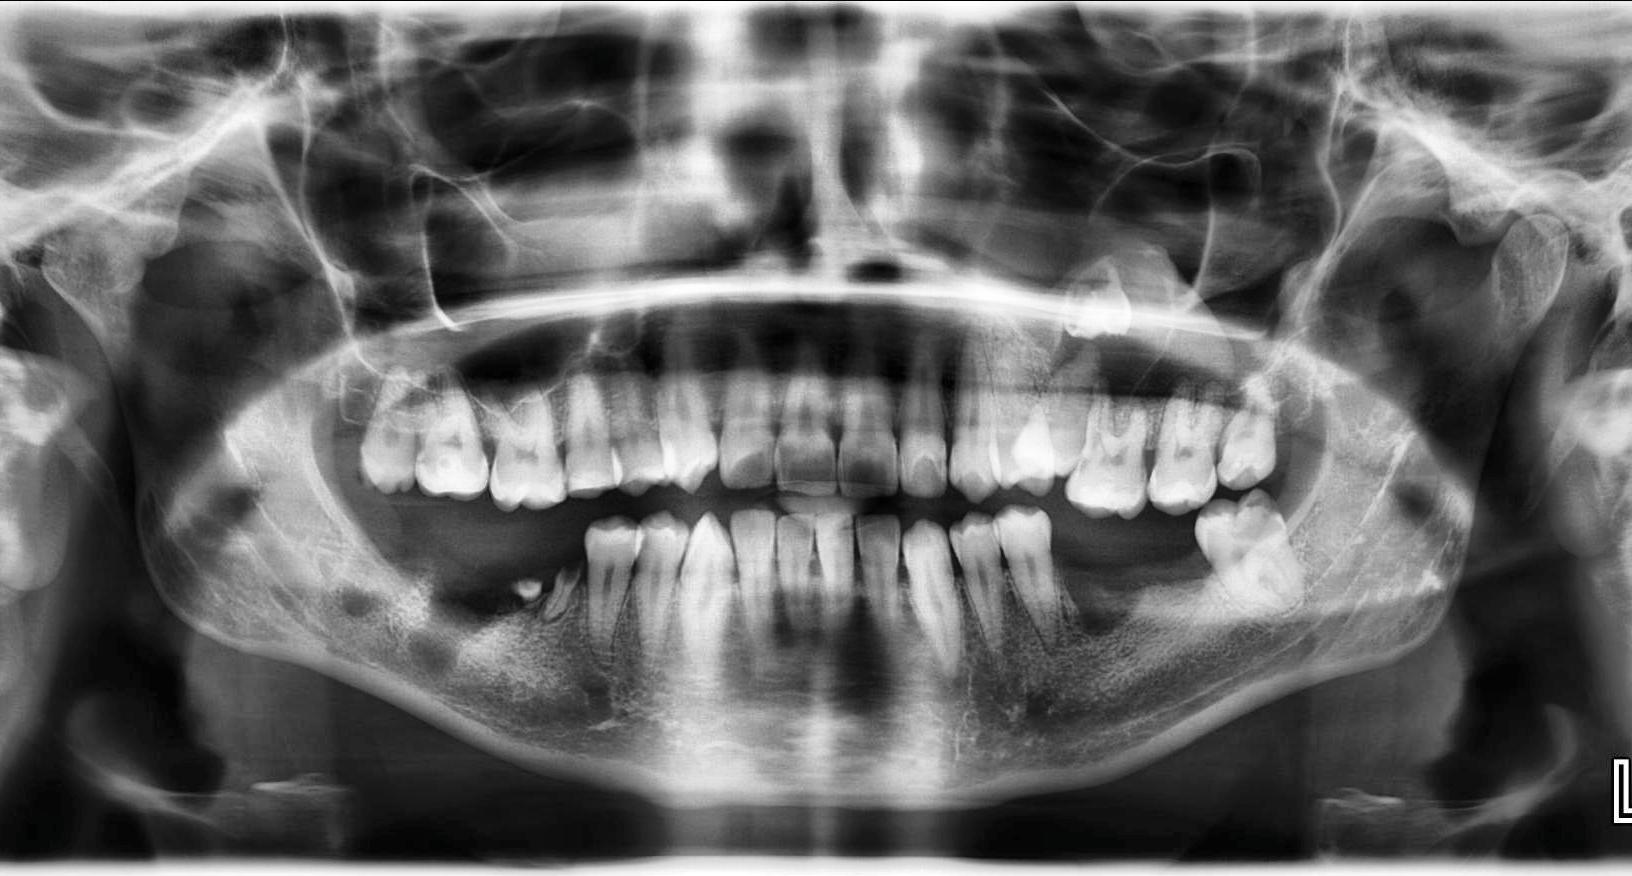dentigeroz: (1053, 247, 1230, 405)
